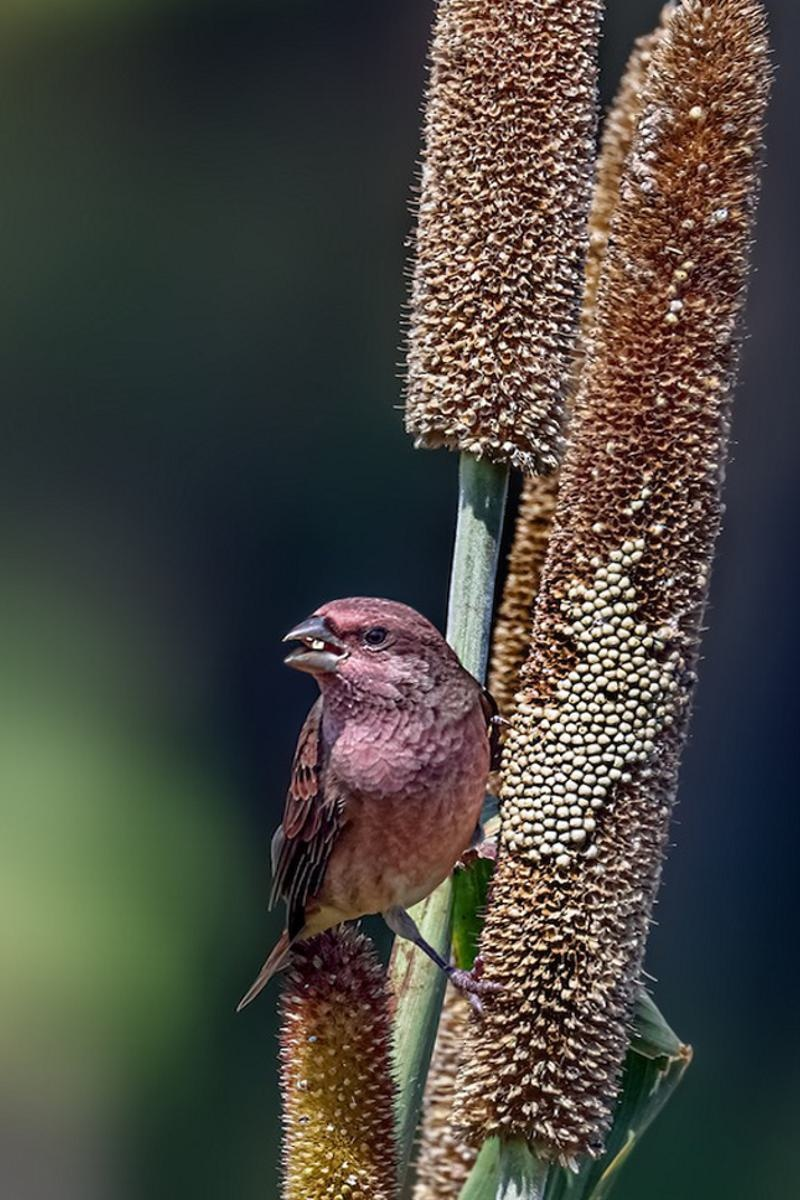rosefinch: (191, 557, 503, 1005)
